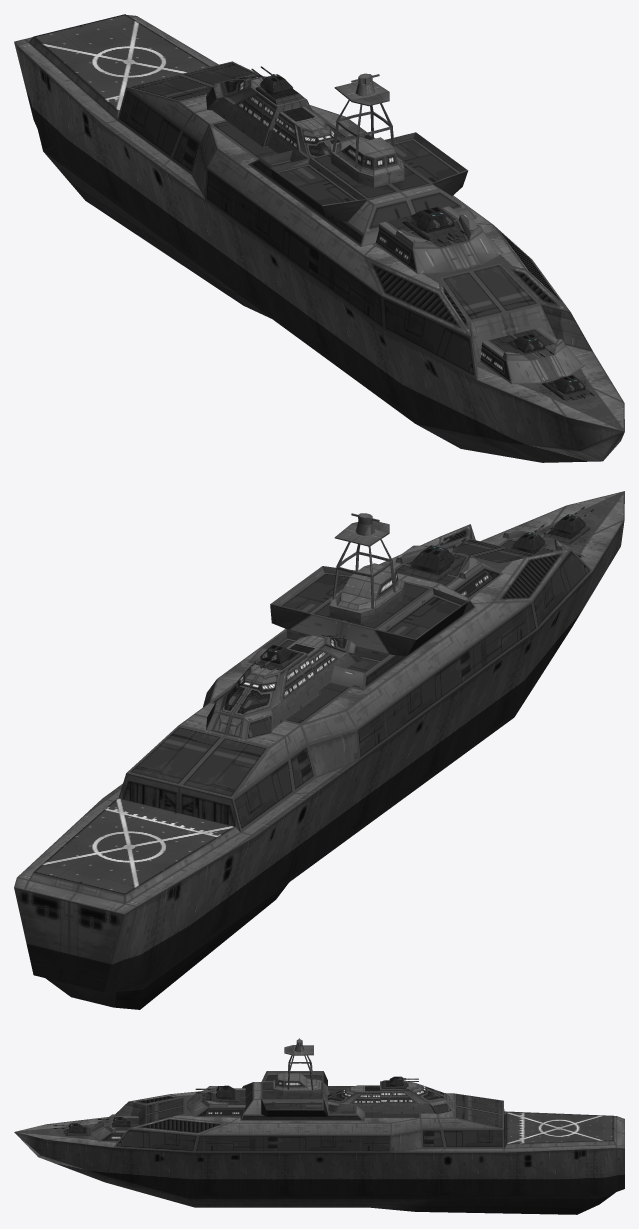
The model's file is navalFleetShipA002_3DModel.FBX.
The picture shows the model from 3 angles, top to bottom: view 1: azimuth 30°, elevation 25°; view 2: azimuth 150°, elevation 25°; view 3: azimuth 270°, elevation 25°; orthographic projection. The views are drawn at different scales.
Parts seen in each view (by area): view 1: MainHullSection01, UpperHullSections01, ForwardHull01, Antenna, DeckCannon_Forward03, DeckCannon_Rear01, DeckCannon_Forward01; view 2: MainHullSection01, UpperHullSections01, Antenna, DeckCannon_Forward03, DeckCannon_Forward01, DeckCannon_Rear01; view 3: MainHullSection01, UpperHullSections01, ForwardHull01, Antenna, DeckCannon_Forward03, DeckCannon_Forward01, DeckCannon_Rear01.
Boxes of the visible parts, bbox=[...] form: MainHullSection01: bbox=[14, 14, 624, 462]; UpperHullSections01: bbox=[206, 76, 503, 273]; ForwardHull01: bbox=[480, 327, 584, 384]; Antenna: bbox=[331, 73, 394, 167]; DeckCannon_Forward03: bbox=[402, 206, 466, 243]; DeckCannon_Rear01: bbox=[251, 66, 303, 105]; DeckCannon_Forward01: bbox=[542, 375, 594, 400]; MainHullSection01: bbox=[14, 491, 624, 1009]; UpperHullSections01: bbox=[206, 545, 503, 739]; Antenna: bbox=[332, 513, 395, 620]; DeckCannon_Forward03: bbox=[402, 534, 466, 582]; DeckCannon_Forward01: bbox=[543, 506, 594, 545]; DeckCannon_Rear01: bbox=[251, 645, 303, 670]; MainHullSection01: bbox=[14, 1091, 624, 1214]; UpperHullSections01: bbox=[187, 1071, 452, 1121]; ForwardHull01: bbox=[91, 1114, 138, 1141]; Antenna: bbox=[284, 1038, 313, 1096]; DeckCannon_Forward03: bbox=[195, 1085, 240, 1102]; DeckCannon_Forward01: bbox=[53, 1123, 90, 1135]; DeckCannon_Rear01: bbox=[381, 1076, 418, 1088].
Size of the model in its own units: 232 by 1453 by 437.
1 material, 1 textured.
